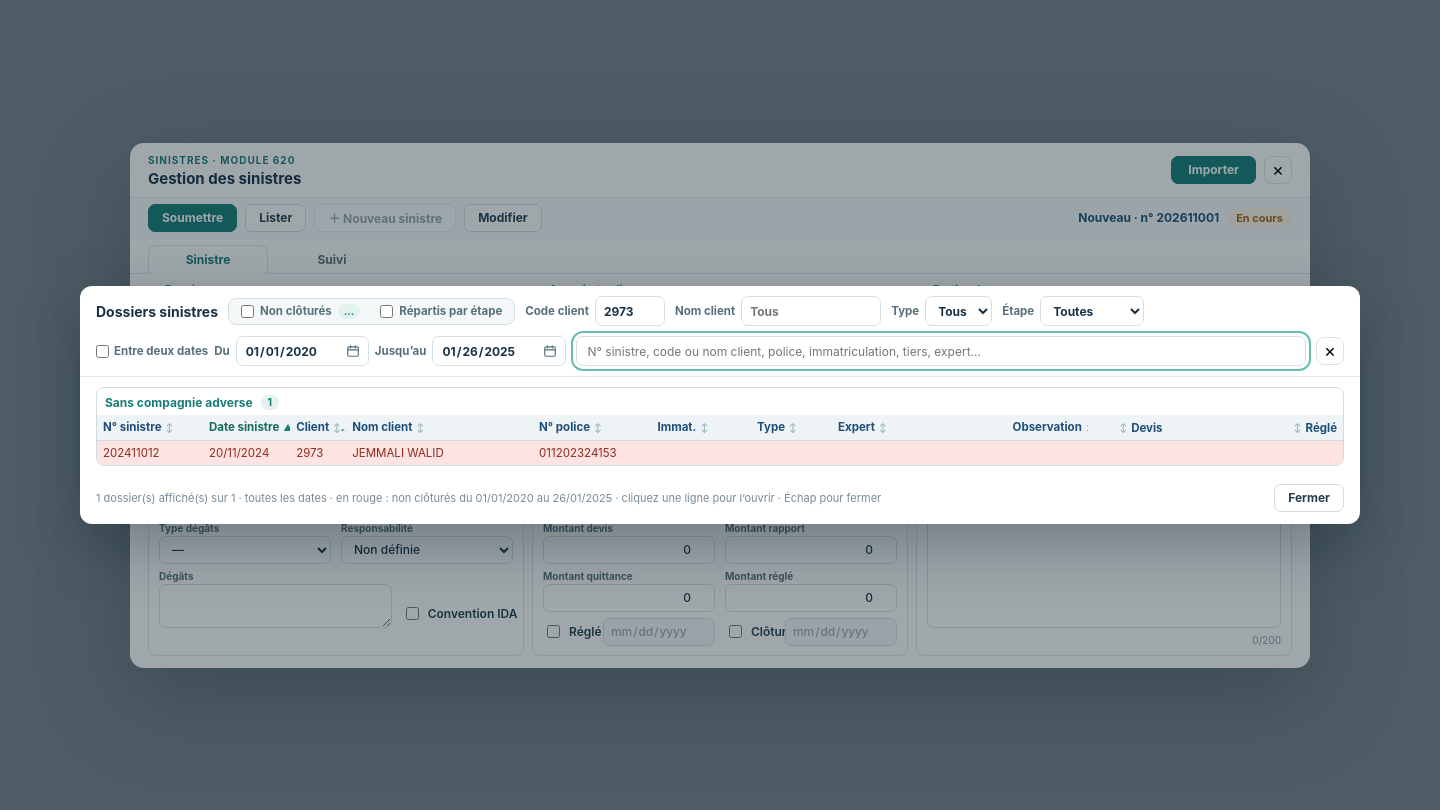
Test: a stored claim opens locked; "Modifier" opens it, "Enregistrer" stores it and locks it again
This screenshot has width=1440, height=810.
Click the text "202411012": (150,453) [97, 440, 203, 465]
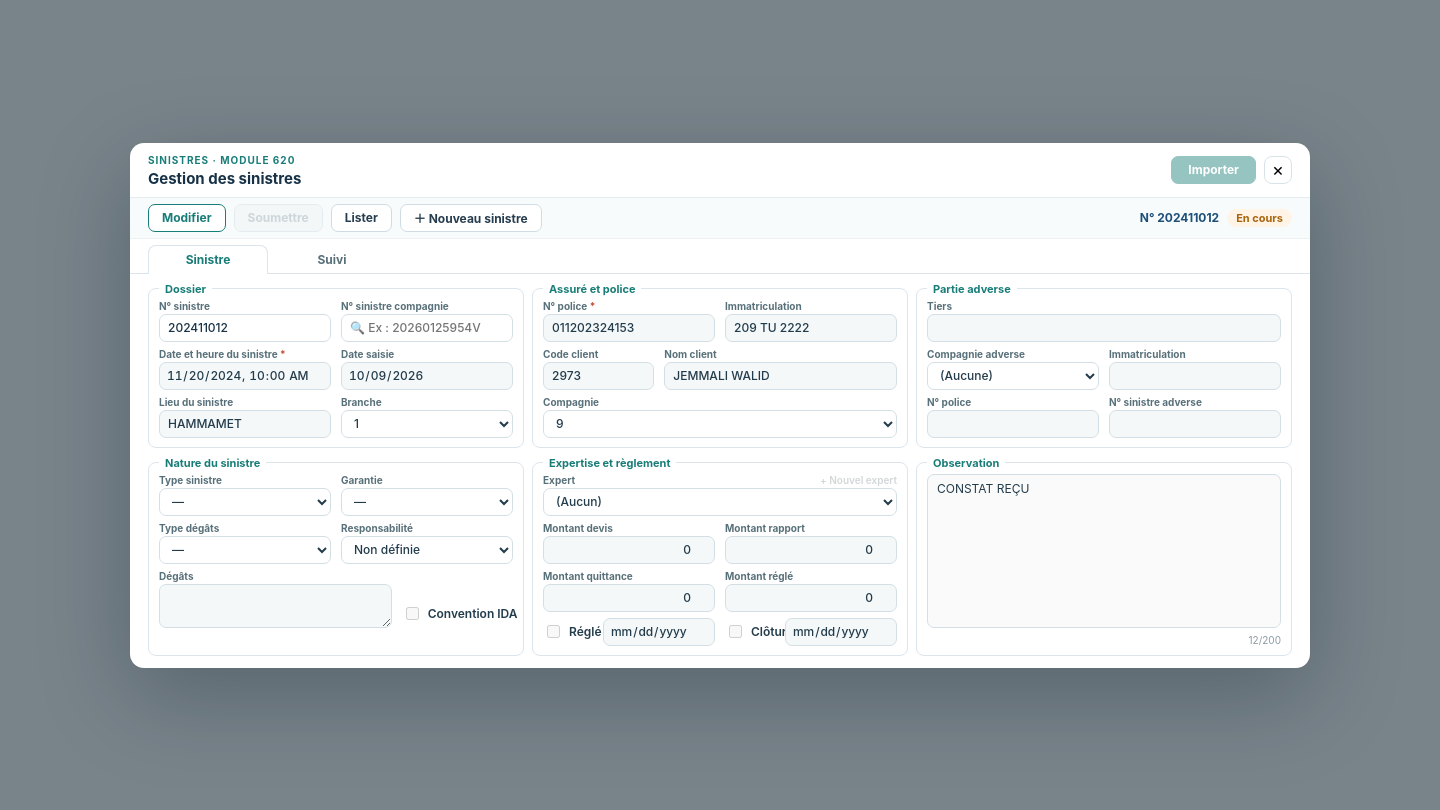
expect the text box named "Observation" is disabled: met, box [927, 474, 1281, 628]
expect the field showing "Hammamet" has attribute readonly: met, box [159, 410, 331, 438]
Click the button "Modifier": (187,218) [148, 204, 226, 232]
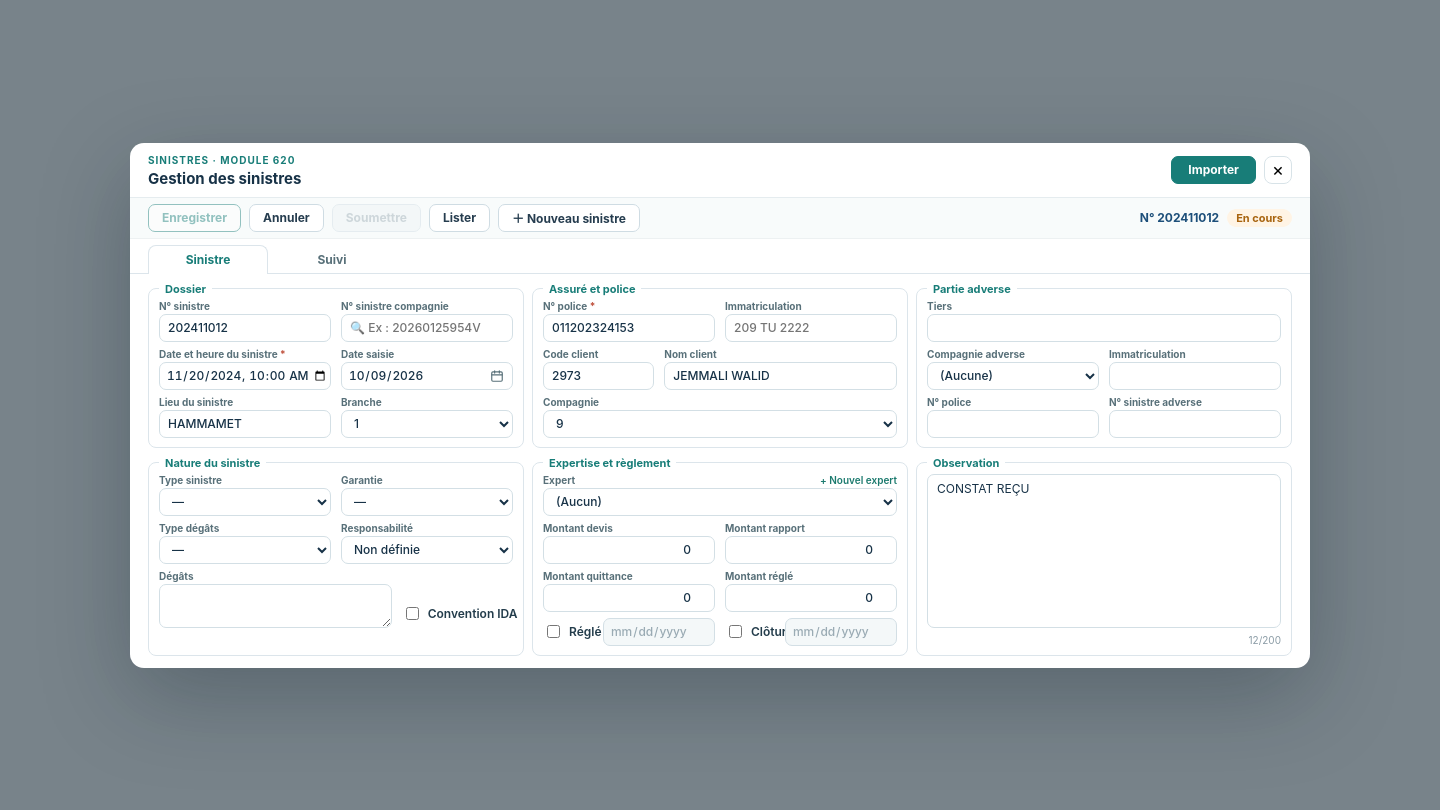
Replace the text in the text box named "Observation" with "rapport d’expertise reçu": (1104,550) [927, 474, 1281, 628]
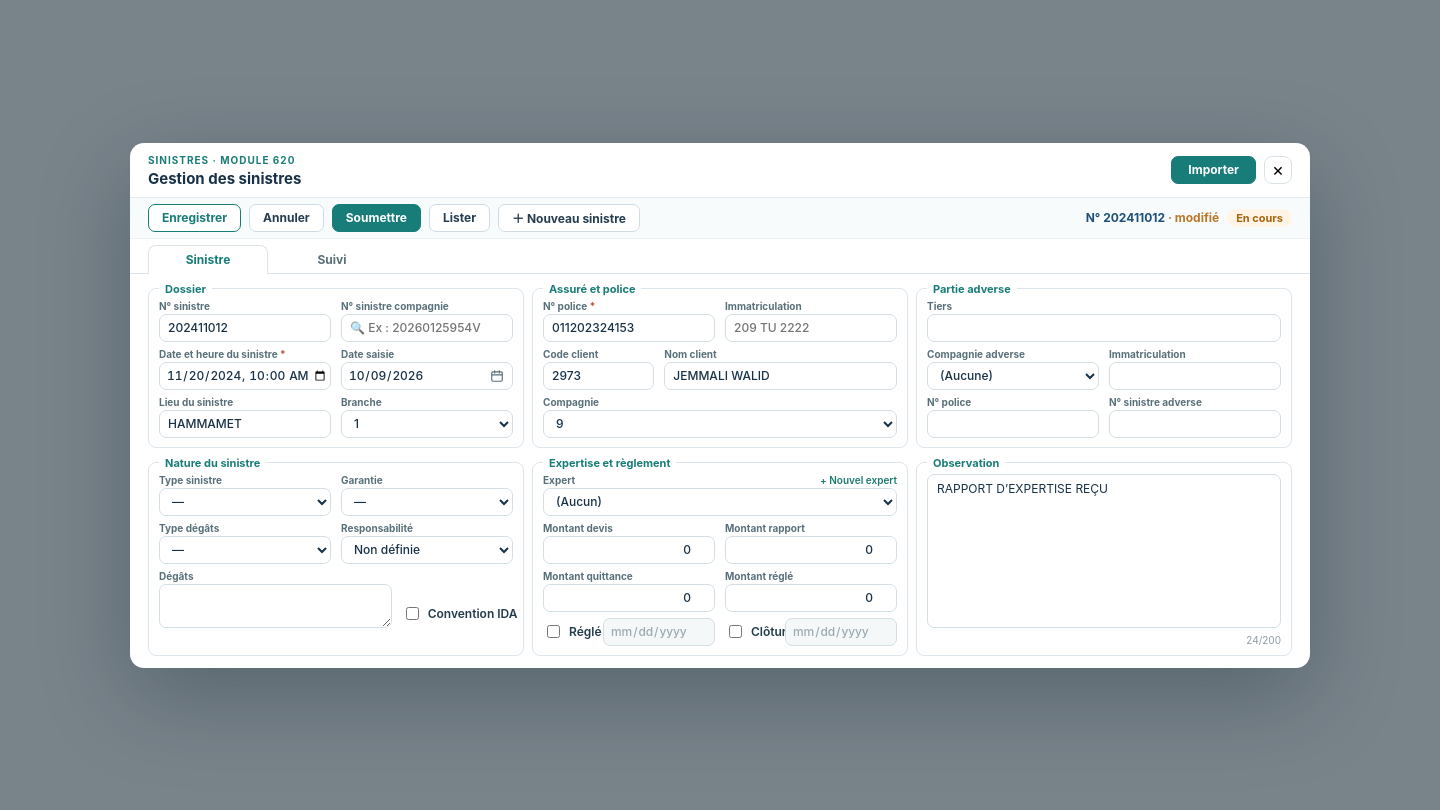
Click the button "Enregistrer": (195,218) [148, 204, 241, 232]
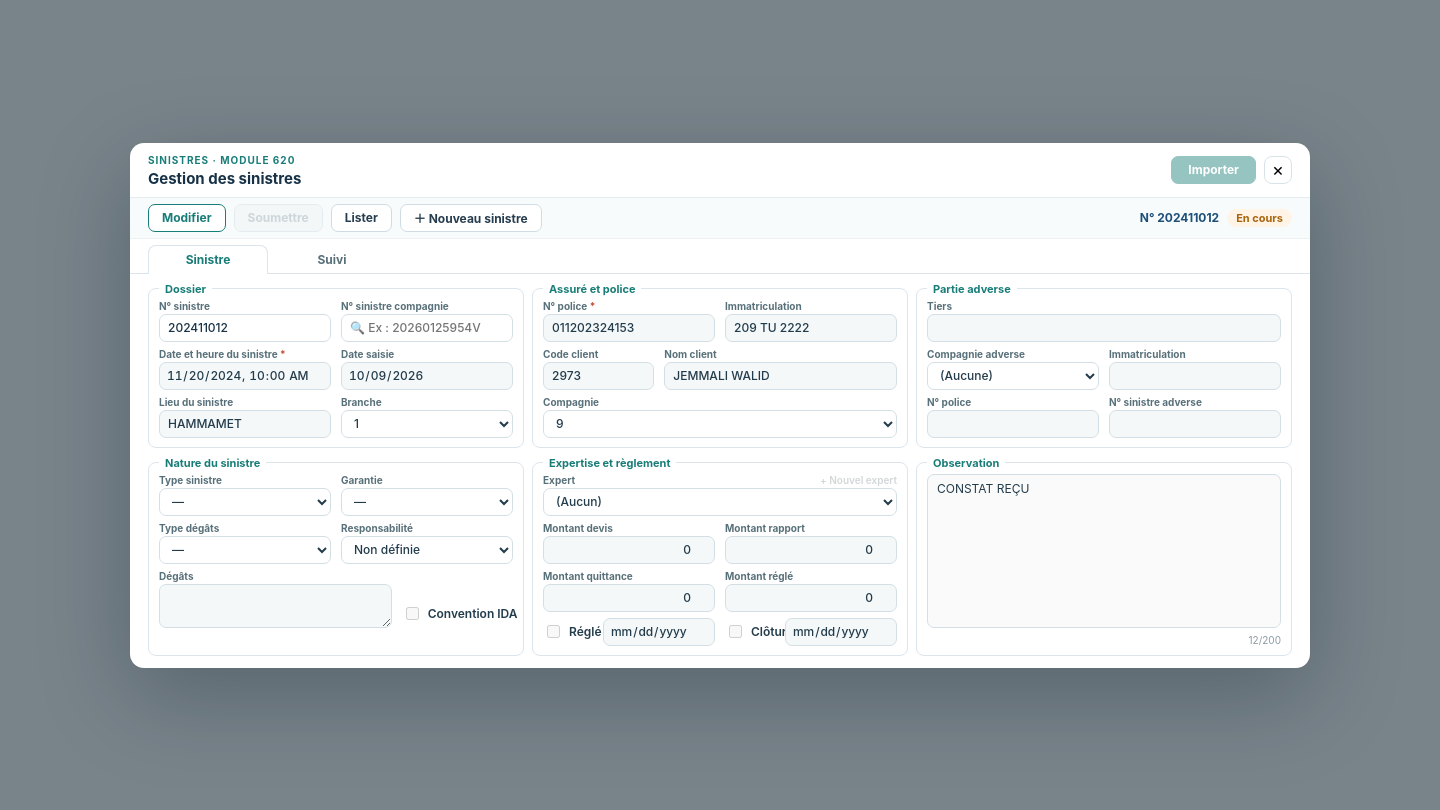
expect the text box named "Observation" is disabled: met, box [927, 474, 1281, 628]
expect the button "Modifier" is shown: met, box [148, 204, 226, 232]
